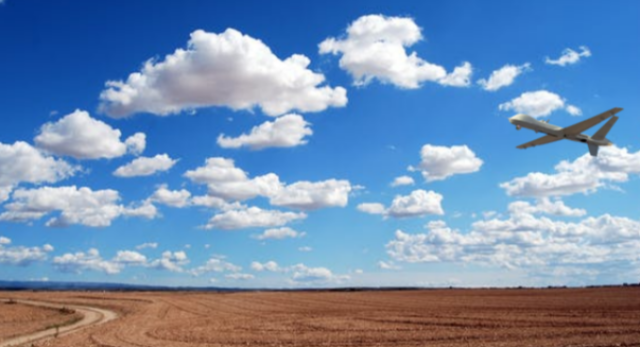military drone: (509, 105, 623, 157)
